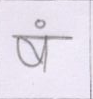anusvara: (36, 21, 45, 27)
